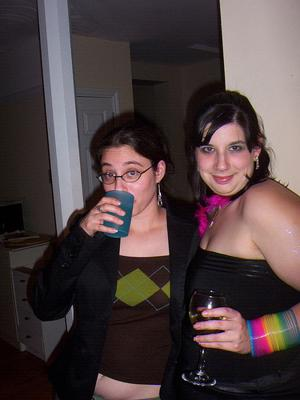person: (26, 114, 201, 400)
